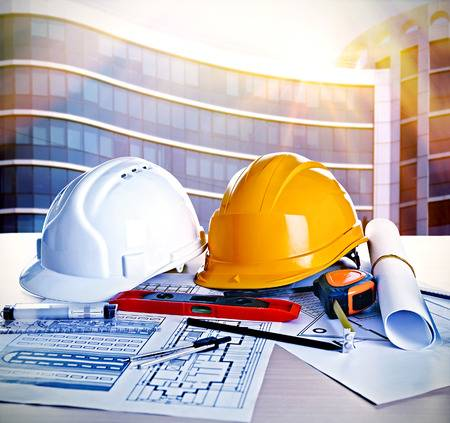casco: (19, 156, 208, 305), (193, 150, 370, 292)
